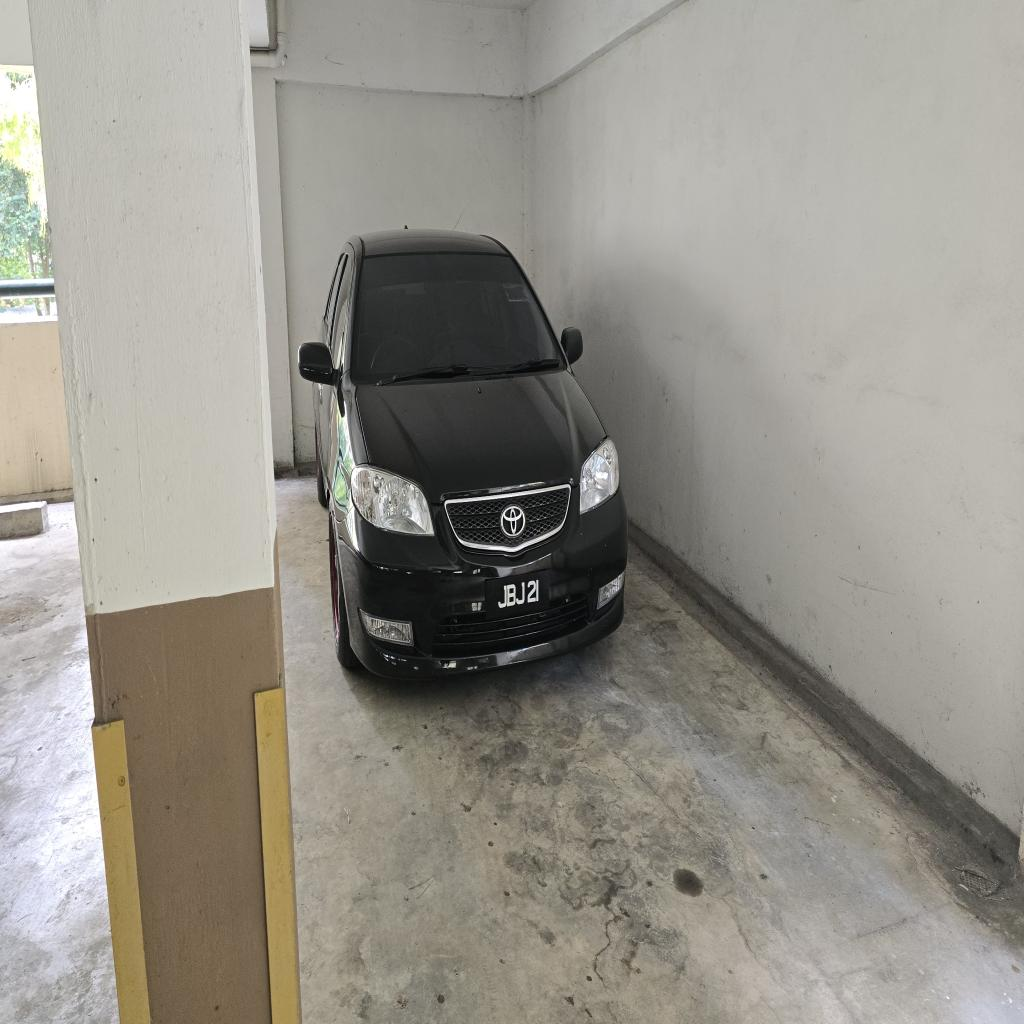car: (299, 231, 627, 677)
car plate: (486, 577, 547, 617)
